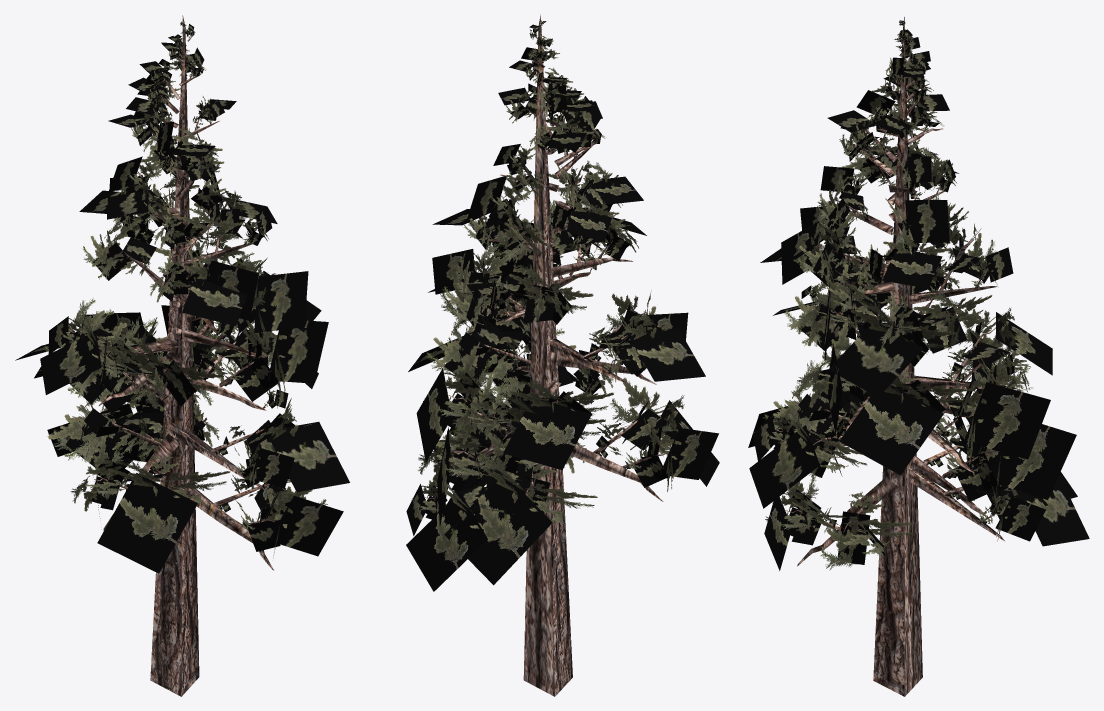
The model's file is TreeP1.fbx.
3 renders of one model, left to right at view 1: azimuth 30°, elevation 25°; view 2: azimuth 150°, elevation 25°; view 3: azimuth 270°, elevation 25°, orthographic.
Visible parts, largest first — view 1: TreeP.001; view 2: TreeP.001; view 3: TreeP.001.
Part boxes in pixels (<box>): TreeP.001: <box>15,15,349,696</box>; TreeP.001: <box>406,14,719,696</box>; TreeP.001: <box>748,17,1089,696</box>.
Size of the model in its own units: 399 by 871 by 400.
